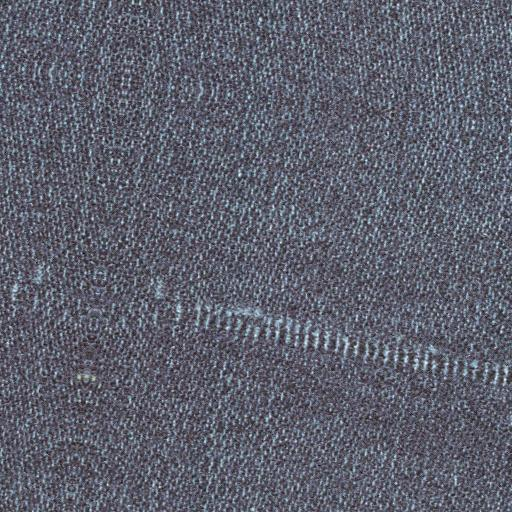slub: (176, 291, 512, 399)
